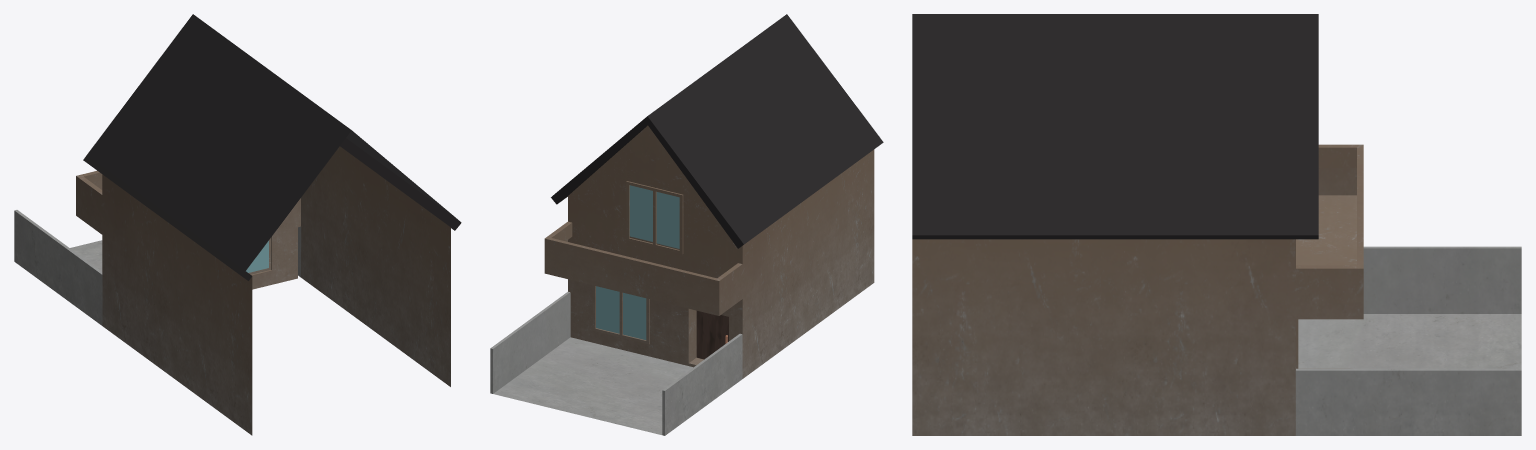
Rendered from house_exterior_brown.gltf.
3 renders of one model, left to right at view 1: azimuth 30°, elevation 25°; view 2: azimuth 150°, elevation 25°; view 3: azimuth 270°, elevation 25°, orthographic. The views are drawn at different scales.
Visible parts, largest first — view 1: Cube.002; view 2: Cube.002; view 3: Cube.002.
Part boxes in pixels (x1,y1,x2,y2): Cube.002: [14, 14, 461, 435]; Cube.002: [490, 14, 883, 435]; Cube.002: [912, 14, 1521, 435].
Size of the model in its own units: 14.39 by 17.6 by 27.
1 material, 1 textured.
